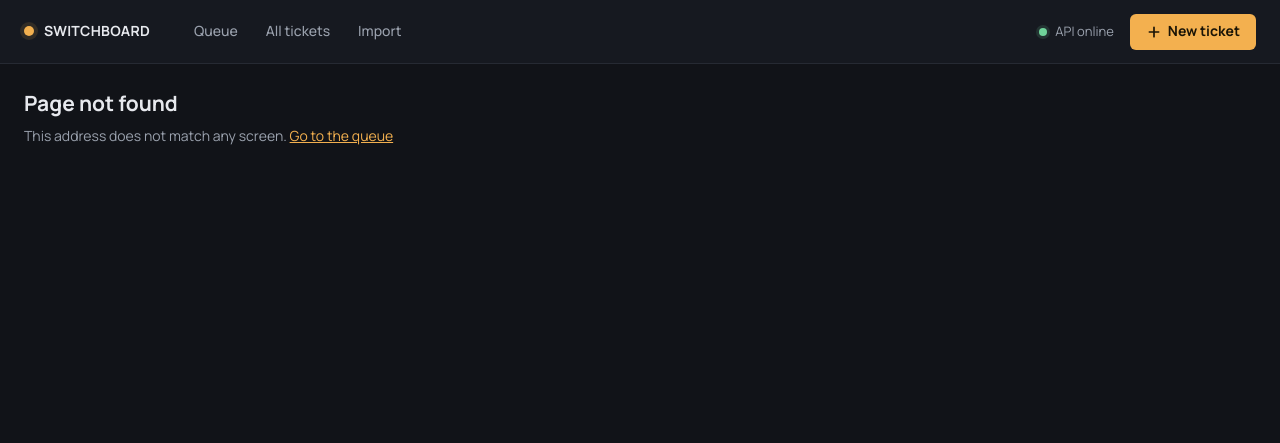
Scenario: App shell › navigates between screens and shows a 404 for unknown addresses
The image size is (1280, 443).
Expected: the heading "Page not found" is shown, [24,89,178,117]
Click the link "Go to the queue" at x=341, y=136, box [290,126,393,145]
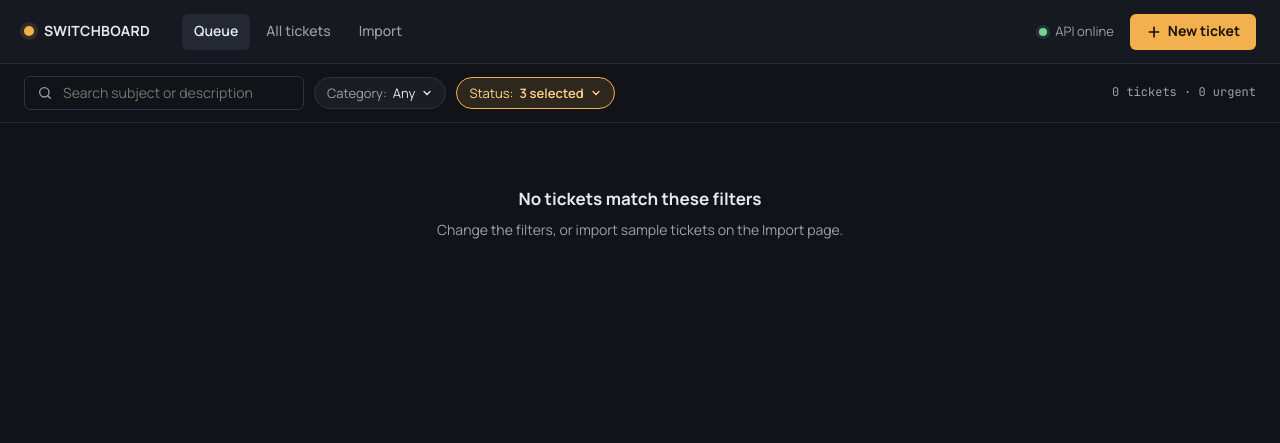
Now the link "Queue" is marked as current, box [182,14,250,50]
Click the link "Import" at x=380, y=31, box [359,21,402,40]
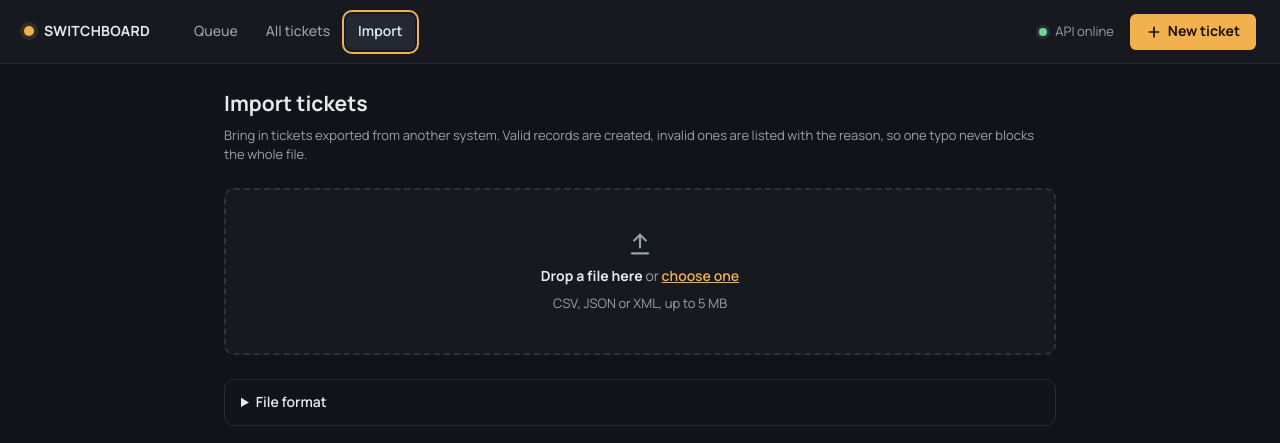
Now the heading "Import tickets" is shown, box [224,89,368,117]
